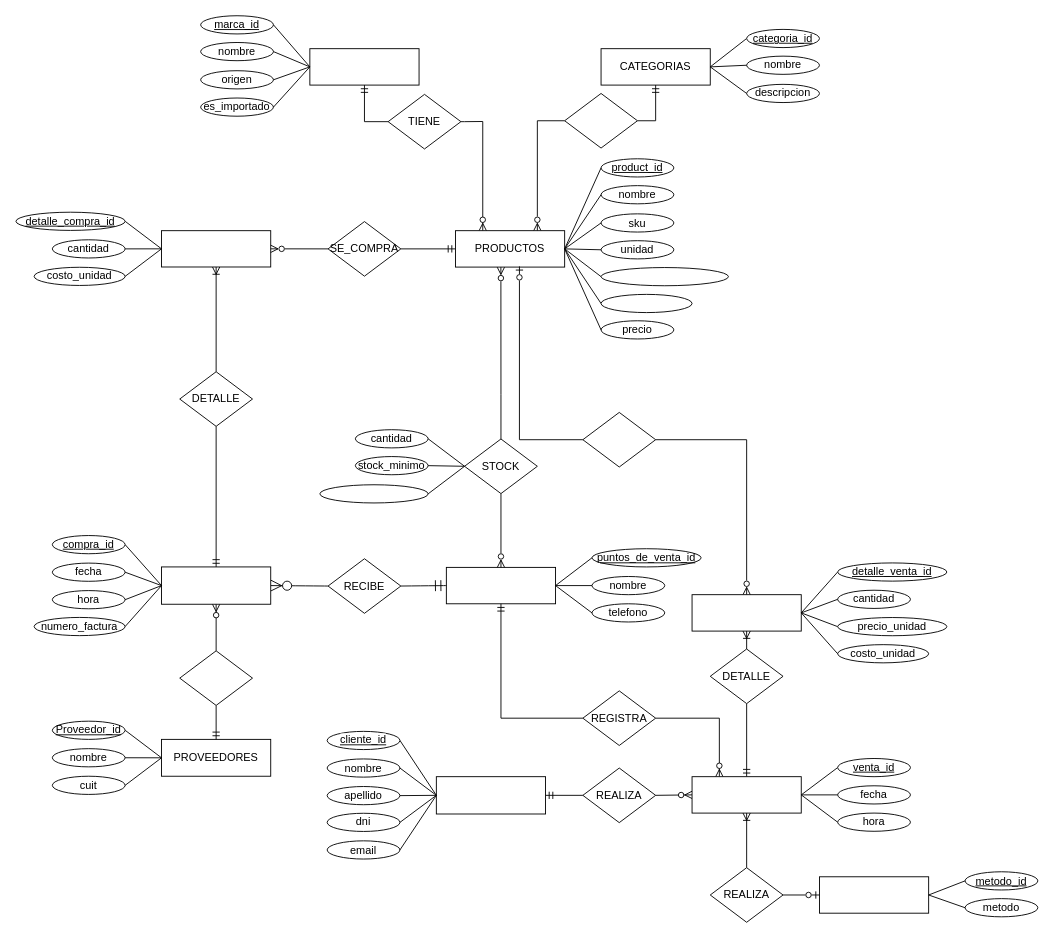
Image size: 1054x939. Some labels were removed from this diagram. The shapes that lost their labels are listed below. From the top down, each one's centre as x and y in pixels, then its label:
At point (364, 66): "MARCAS".
At point (600, 120): "PERTENECE".
At point (216, 248): "DETALLE_COMPRAS".
At point (664, 276): "descripcion_medida".
At point (646, 303): "ultimo_costo".
At point (619, 439): "SE_VENDE".
At point (373, 493): "fecha_actualizacion".
At point (216, 585): "COMPRAS".
At point (500, 585): "PUNTOS_DE_VENTA".
At point (746, 612): "DETALLE_VENTAS".
At point (216, 677): "PROVEE".
At point (490, 795): "CLIENTES".
At point (746, 794): "VENTAS".
At point (874, 894): "METODO_PAGO".
